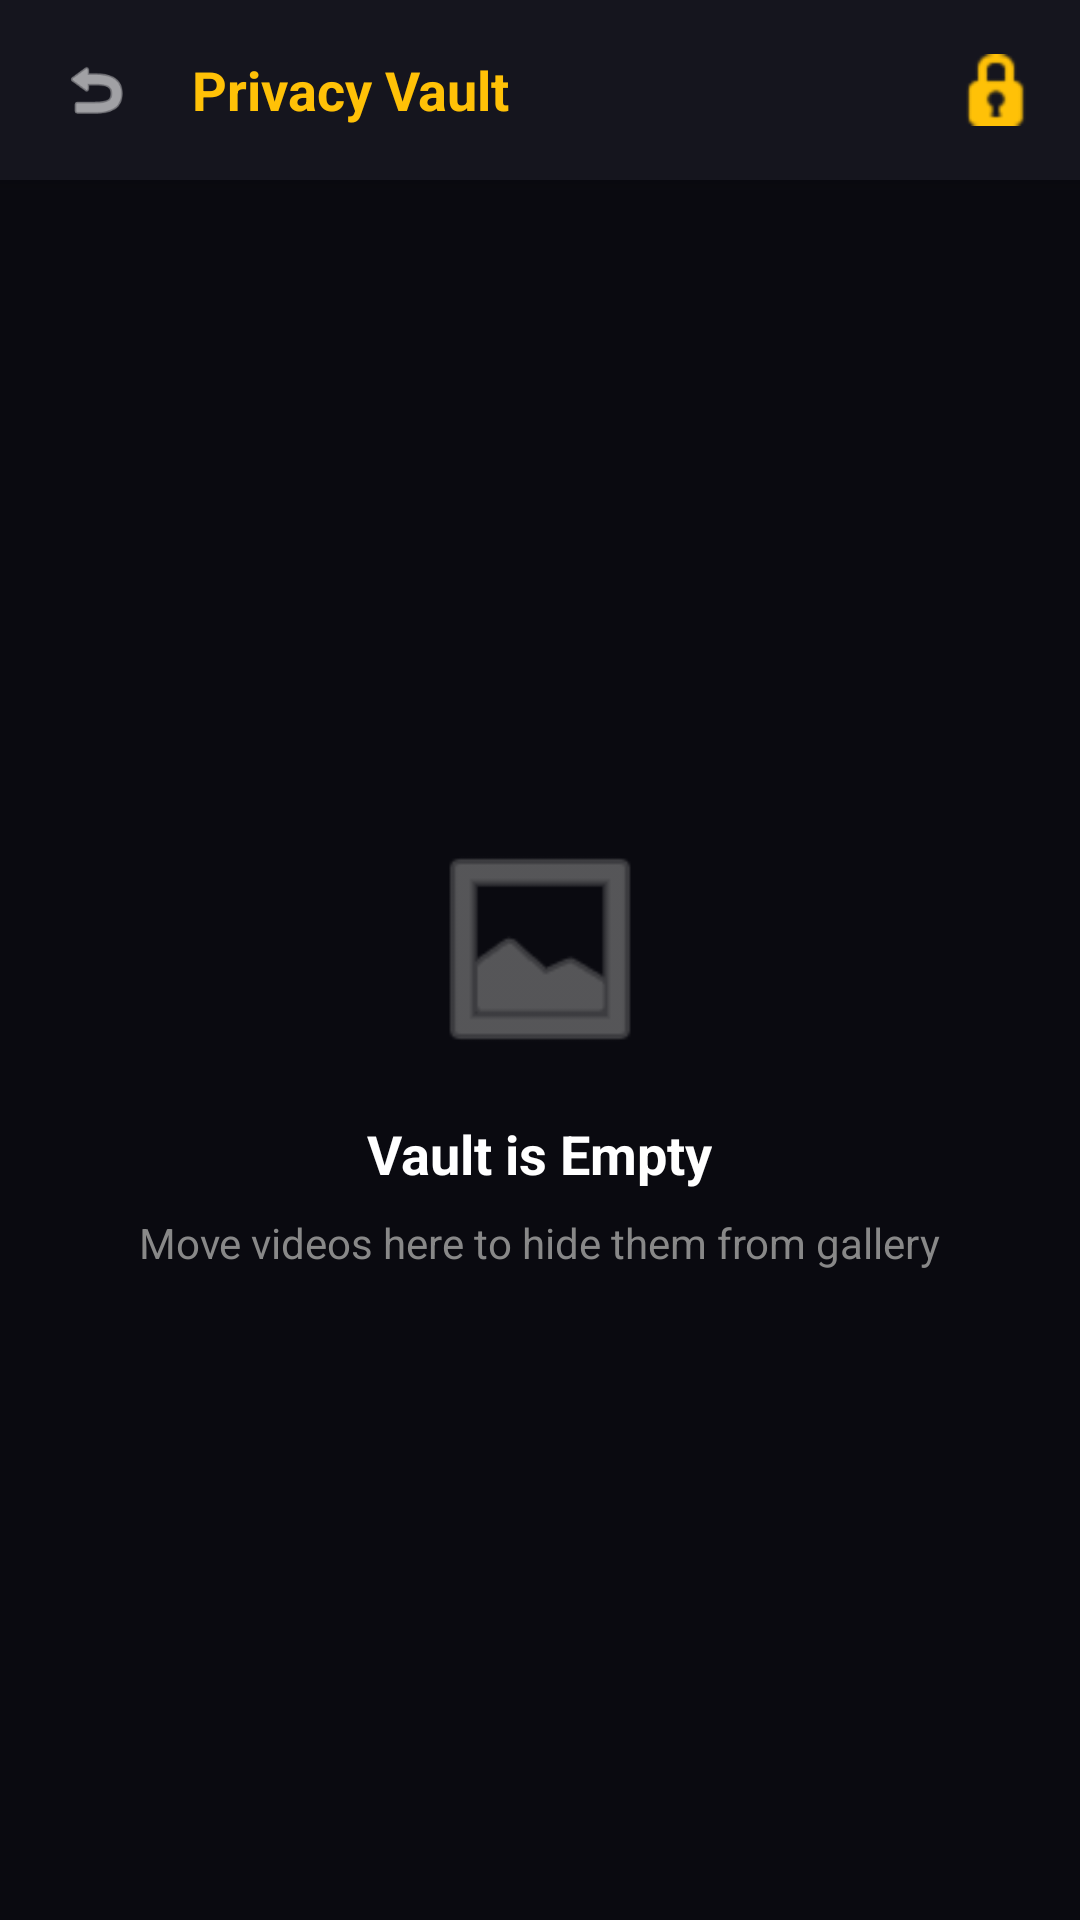

Icons on this 1080 x 1920 Android screen, each with its box as (x1, y1, x2, y2):
revert: (71, 67, 123, 114)
secure: (967, 54, 1024, 126)
